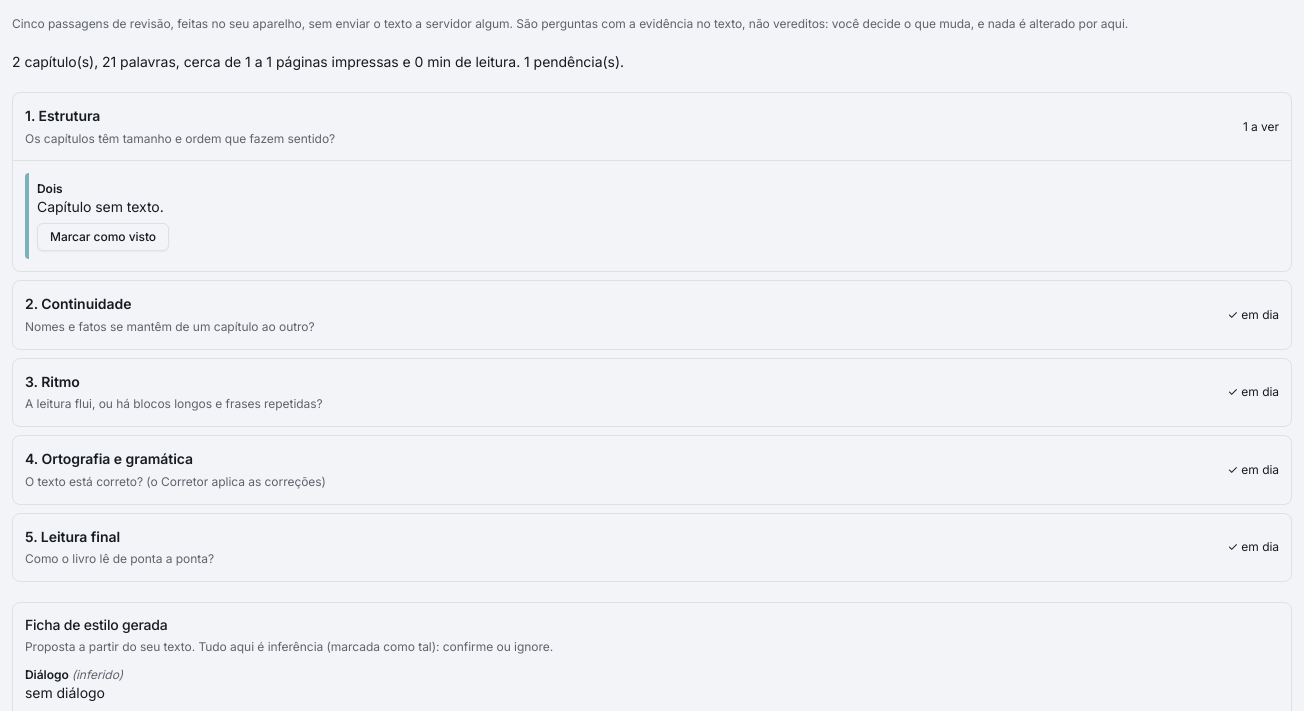
Test case: ReviewPanel › mostra as passagens, marca como visto e guarda neste aparelho
Expected: the text "1. Estrutura" is shown, [25,107,100,124]
Expected: the text "Capítulo sem texto." is shown, [37,198,164,215]
Click the button "Marcar como visto": x=103, y=237 [37,223,169,251]
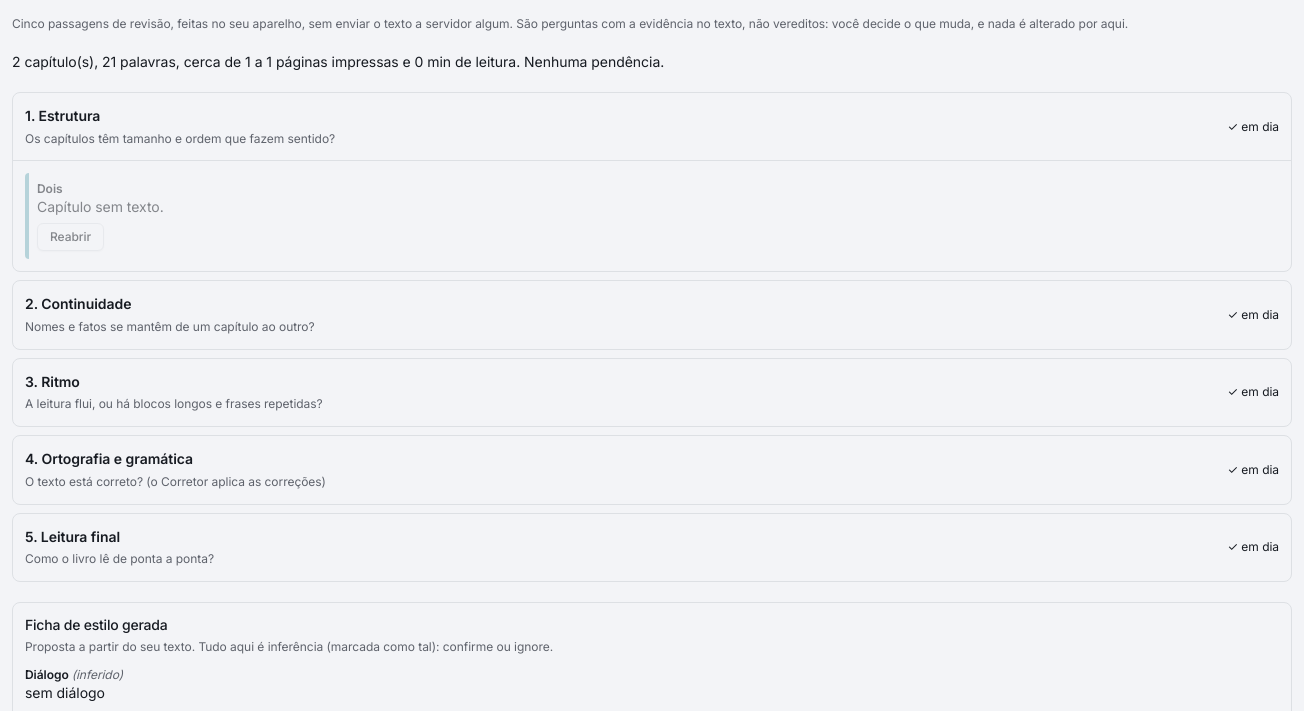
Expected: the button "Reabrir" is shown, [37,223,104,251]
